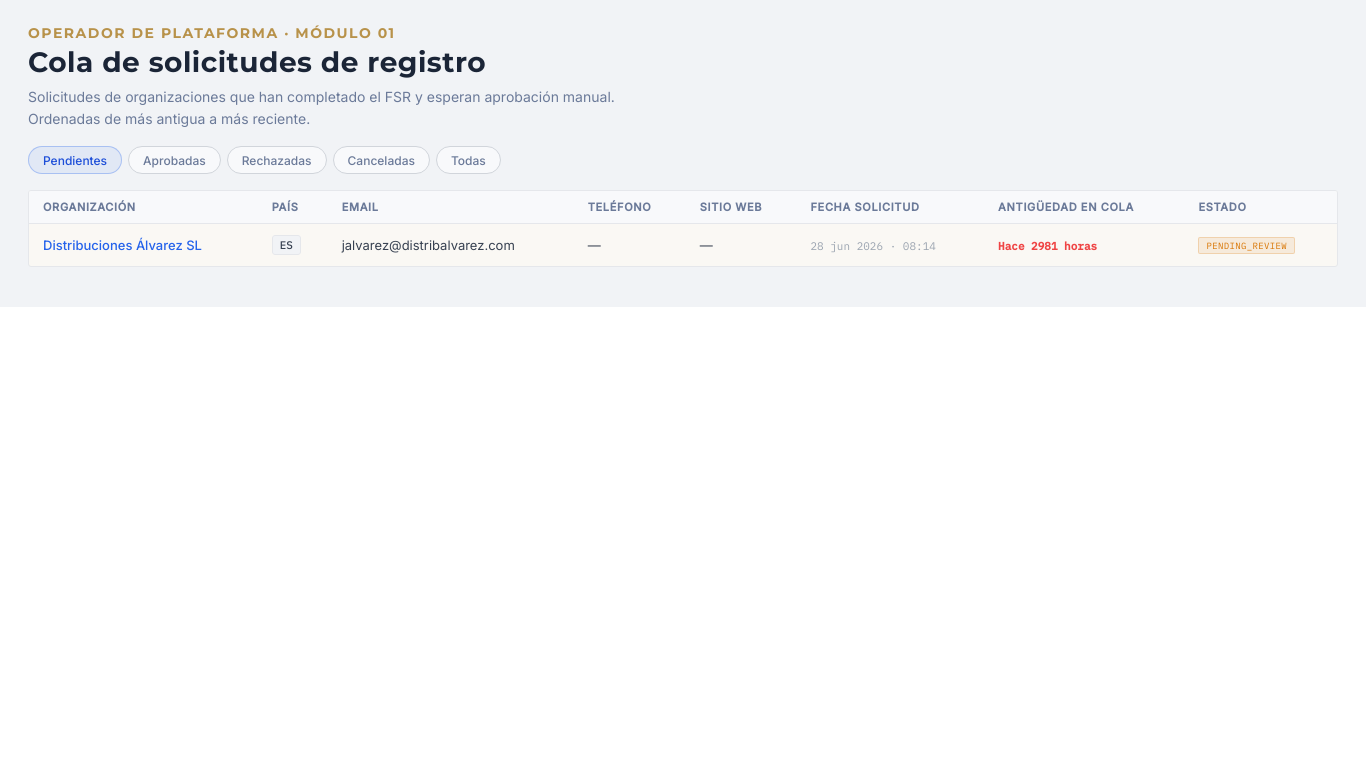
it: AdminRequests · enlace de acceso › Aprobar genera el enlace y lo enseña entero, sin pedir el estado después
Click the button "Distribuciones Álvarez SL" at (122,245), box [43,237,202,253]
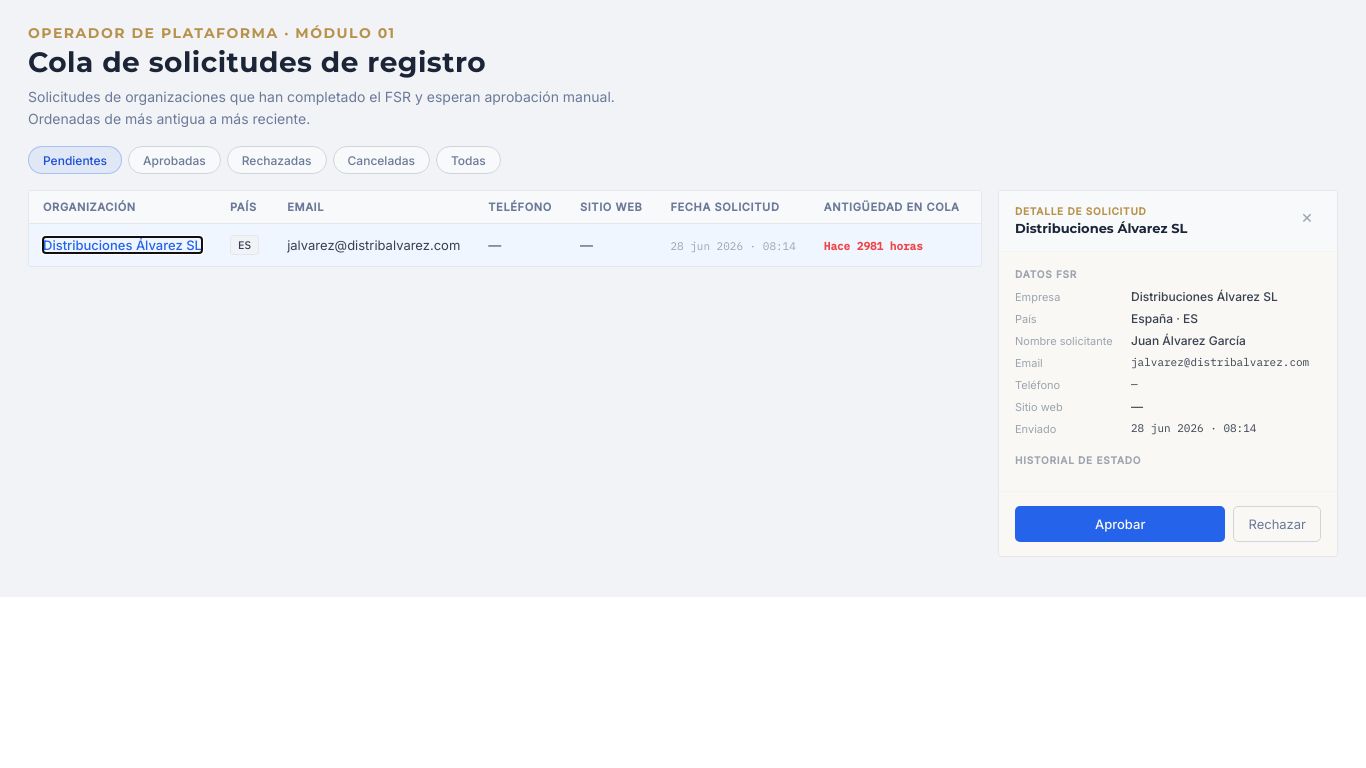
Expected: the text "Enlace de acceso" is not shown
Expected: the text "Detalle de solicitud" is shown, [1015,205,1147,217]
Click the button "Aprobar" at (1120,524), box [1015,506,1226,542]
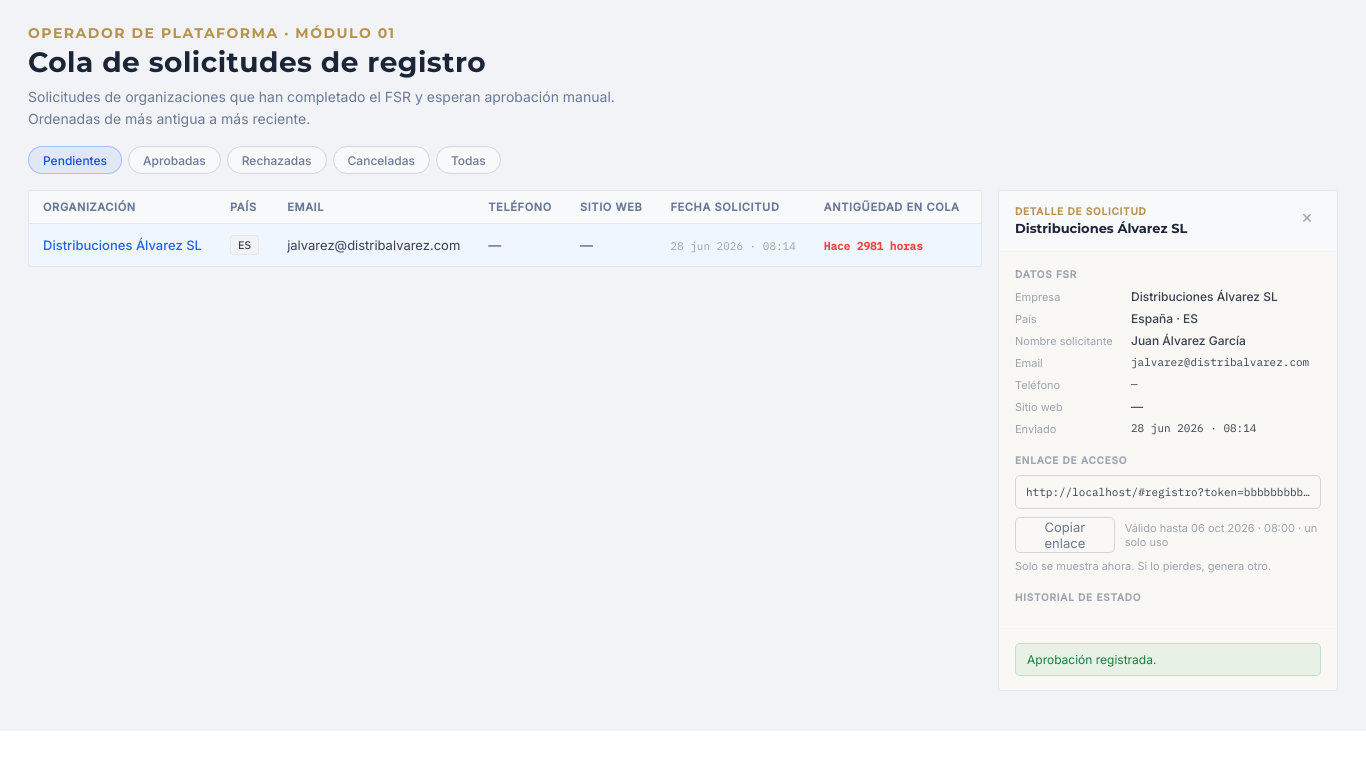
Expected: the text "Aprobación registrada." is shown, [1015,643,1321,676]
